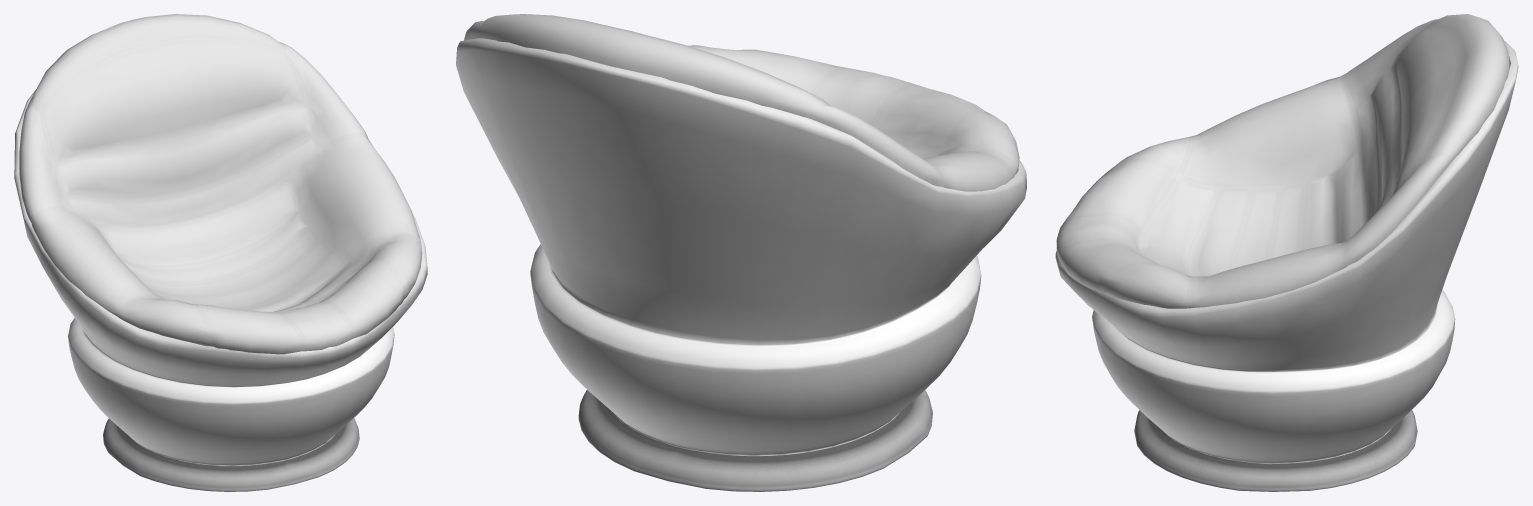
File: Chair05.FBX
The picture shows the model from 3 angles, left to right: view 1: azimuth 30°, elevation 25°; view 2: azimuth 150°, elevation 25°; view 3: azimuth 270°, elevation 25°; orthographic projection. The views are drawn at different scales.
Visible parts, largest first — view 1: Chair05; view 2: Chair05; view 3: Chair05.
Part boxes in pixels (<box>): Chair05: <box>14,14,427,491</box>; Chair05: <box>456,14,1026,491</box>; Chair05: <box>1055,14,1518,491</box>.
Size of what is drawn, in the model's own units: 1.26 by 1.22 by 1.32.
